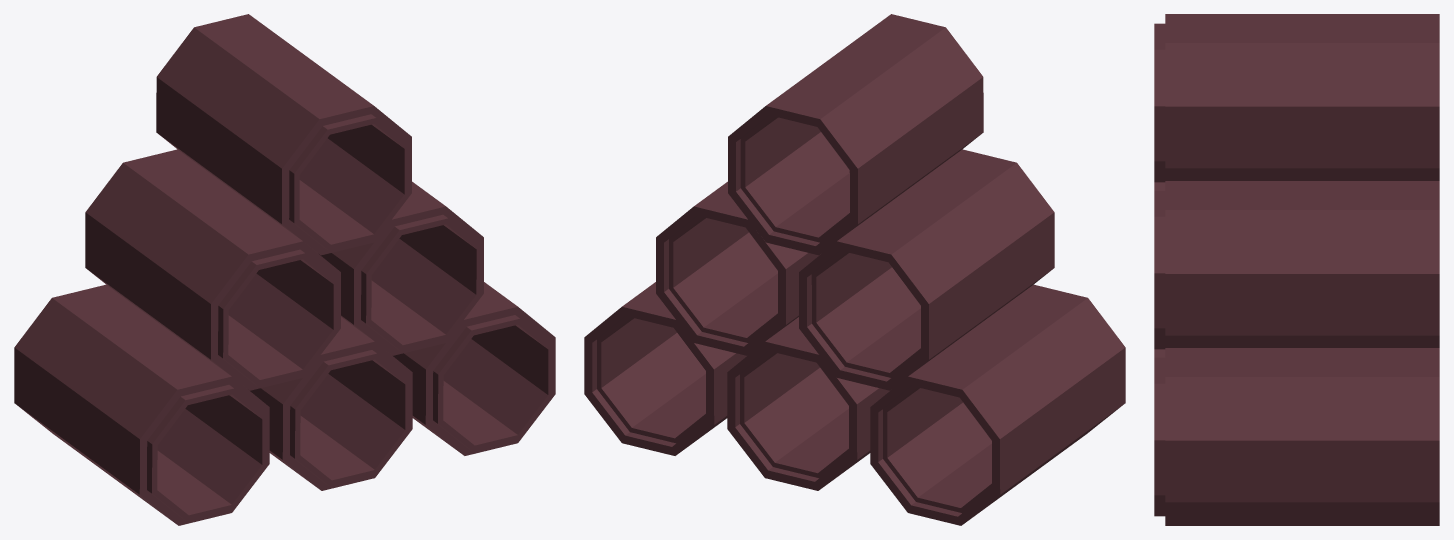
File: pipe-concrete-stack.fbx
The picture shows the model from 3 angles, left to right: view 1: azimuth 30°, elevation 25°; view 2: azimuth 150°, elevation 25°; view 3: azimuth 270°, elevation 25°; orthographic projection. The views are drawn at different scales.
Parts seen in each view (by area): view 1: pipe-concrete-stack; view 2: pipe-concrete-stack; view 3: pipe-concrete-stack.
Part boxes in pixels (x1,y1,x2,y2): pipe-concrete-stack: [14, 14, 555, 525]; pipe-concrete-stack: [584, 14, 1125, 525]; pipe-concrete-stack: [1154, 14, 1439, 525].
Size of the model in its own units: 3.68 by 3.14 by 2.
